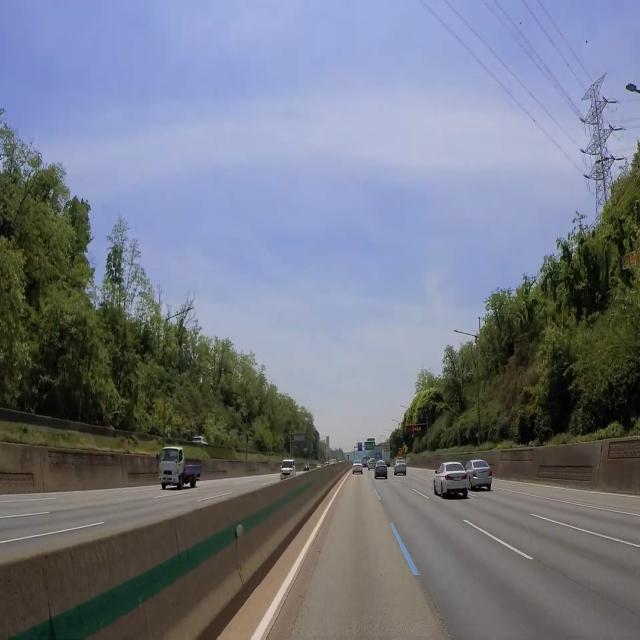car: (478, 466, 490, 481), (453, 473, 464, 483), (162, 475, 171, 487)
